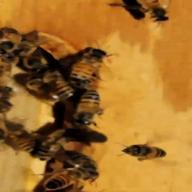Bee: (41, 157, 100, 192), (116, 135, 170, 165), (62, 94, 108, 122), (73, 45, 101, 86)
